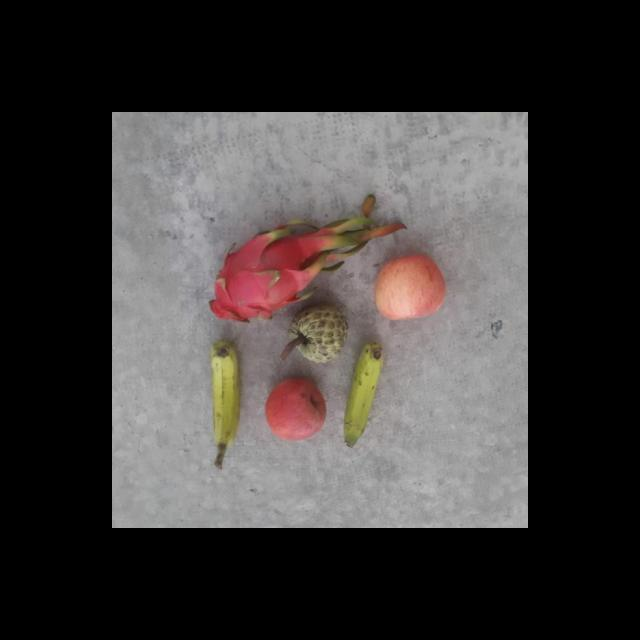Sakya fruit: (292, 302, 352, 366)
apple: (372, 250, 444, 324), (261, 377, 328, 442)
banana: (202, 346, 251, 446), (342, 344, 384, 456)
pitaya: (212, 234, 318, 323)
